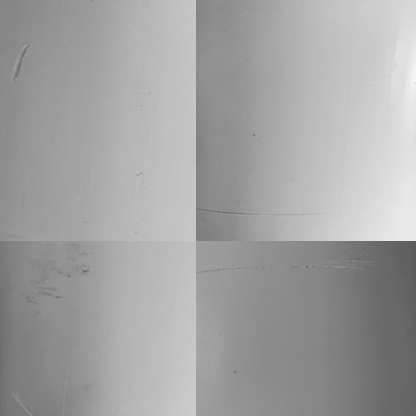sunshang: (197, 205, 327, 223), (7, 386, 34, 416), (10, 46, 31, 82)
